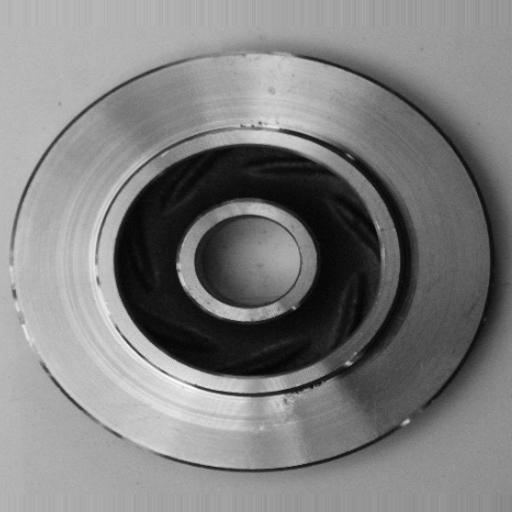crack: (268, 372, 346, 416), (228, 112, 290, 142)
scratch: (4, 252, 57, 368), (80, 246, 132, 339)
unpolished_casting: (13, 45, 497, 474)
